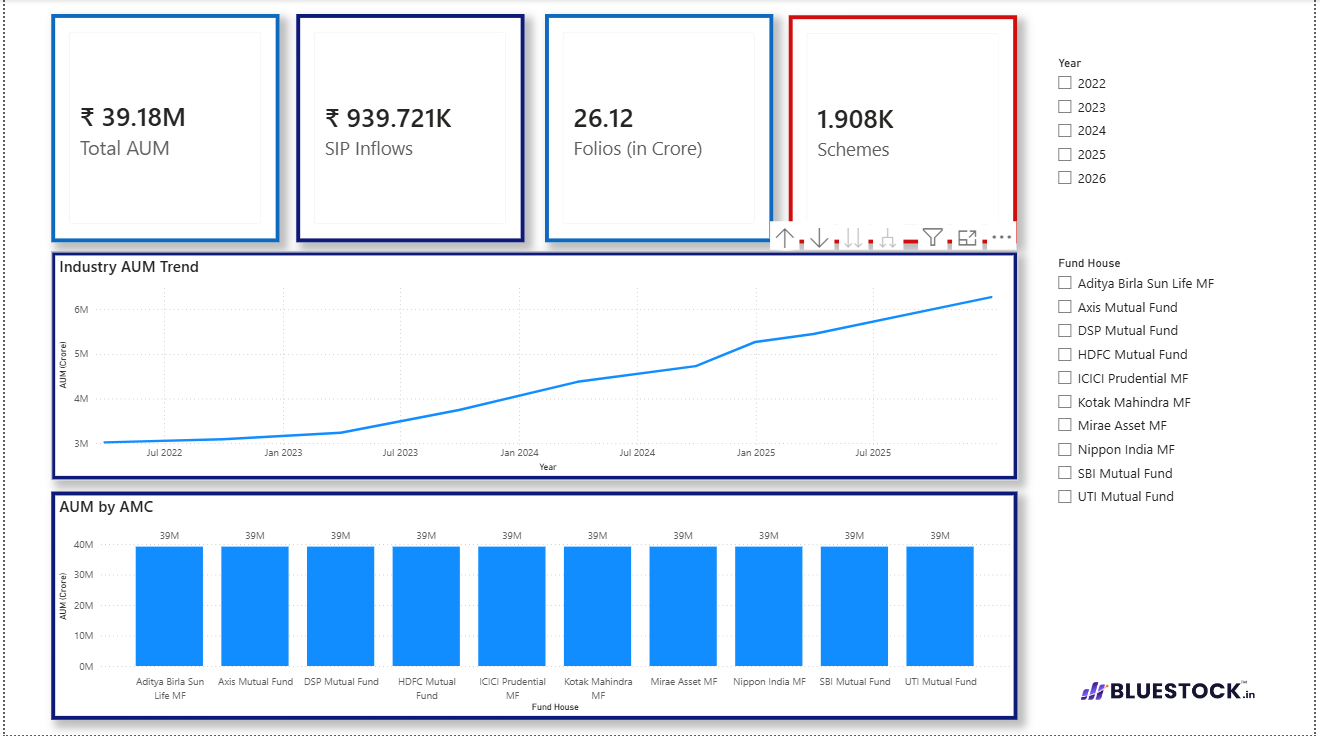

What the dashboard file says about the page in this screenshot:
{"tool":"powerbi","page":{"name":"Industry Overview","canvas":[1600,900],"ordinal":0},"visuals":[{"type":"cardVisual","fields":{"Data":["Sum(fact_aum.aum_crore)"]},"box":[56.6,18.9,279.6,279.6],"z":0},{"type":"cardVisual","fields":{"Data":["Sum(monthly_sip_inflows_cleaned.sip_inflow_crore)"]},"box":[356.8,18.9,279.6,279.6],"z":1000},{"type":"cardVisual","fields":{"Data":["Max(industry_folio_count_cleaned.total_folios_crore)"]},"box":[660.4,18.9,279.6,279.6],"z":2000},{"type":"cardVisual","fields":{"Data":["benchmark_indices_cleaned.Total Schemes"]},"box":[958.8,20.6,279.6,279.6],"z":3000},{"type":"lineChart","title":"Industry AUM Trend","fields":{"Y":["Sum(fact_aum.aum_crore)"],"Category":["fact_aum.date.Variation.Date Hierarchy.Year","fact_aum.date.Variation.Date Hierarchy.Quarter","fact_aum.date.Variation.Date Hierarchy.Month","fact_aum.date.Variation.Date Hierarchy.Day"]},"box":[56.6,308.7,1181.8,279.6],"z":4000},{"type":"clusteredColumnChart","title":"AUM by AMC","fields":{"Y":["Sum(fact_aum.aum_crore)"],"Category":["dim_fund.fund_house"]},"box":[56.6,602.1,1181.8,279.6],"z":5000},{"type":"slicer","fields":{"Values":["dim_date.Year"]},"box":[1274.4,63.5,279.6,193.8],"z":6000},{"type":"slicer","fields":{"Values":["dim_fund.fund_house"]},"box":[1274.4,308.7,279.6,337.9],"z":7000},{"type":"image","box":[1274.4,831.9,295,27.4],"z":8000}]}

Visuals, with their boxes in screenshot pixels (x1, y1, x2, y2), scaled from the page's 1600x900 canvas onto the 1320x736 screenshot:
cardVisual - Sum(fact_aum.aum_crore): crop(47, 15, 277, 244)
cardVisual - Sum(monthly_sip_inflows_cleaned.sip_inflow_crore): crop(294, 15, 525, 244)
cardVisual - Max(industry_folio_count_cleaned.total_folios_crore): crop(545, 15, 776, 244)
cardVisual - benchmark_indices_cleaned.Total Schemes: crop(791, 17, 1022, 245)
"Industry AUM Trend" lineChart: crop(47, 252, 1022, 481)
"AUM by AMC" clusteredColumnChart: crop(47, 492, 1022, 721)
slicer - dim_date.Year: crop(1051, 52, 1282, 210)
slicer - dim_fund.fund_house: crop(1051, 252, 1282, 529)
image: crop(1051, 680, 1295, 703)
